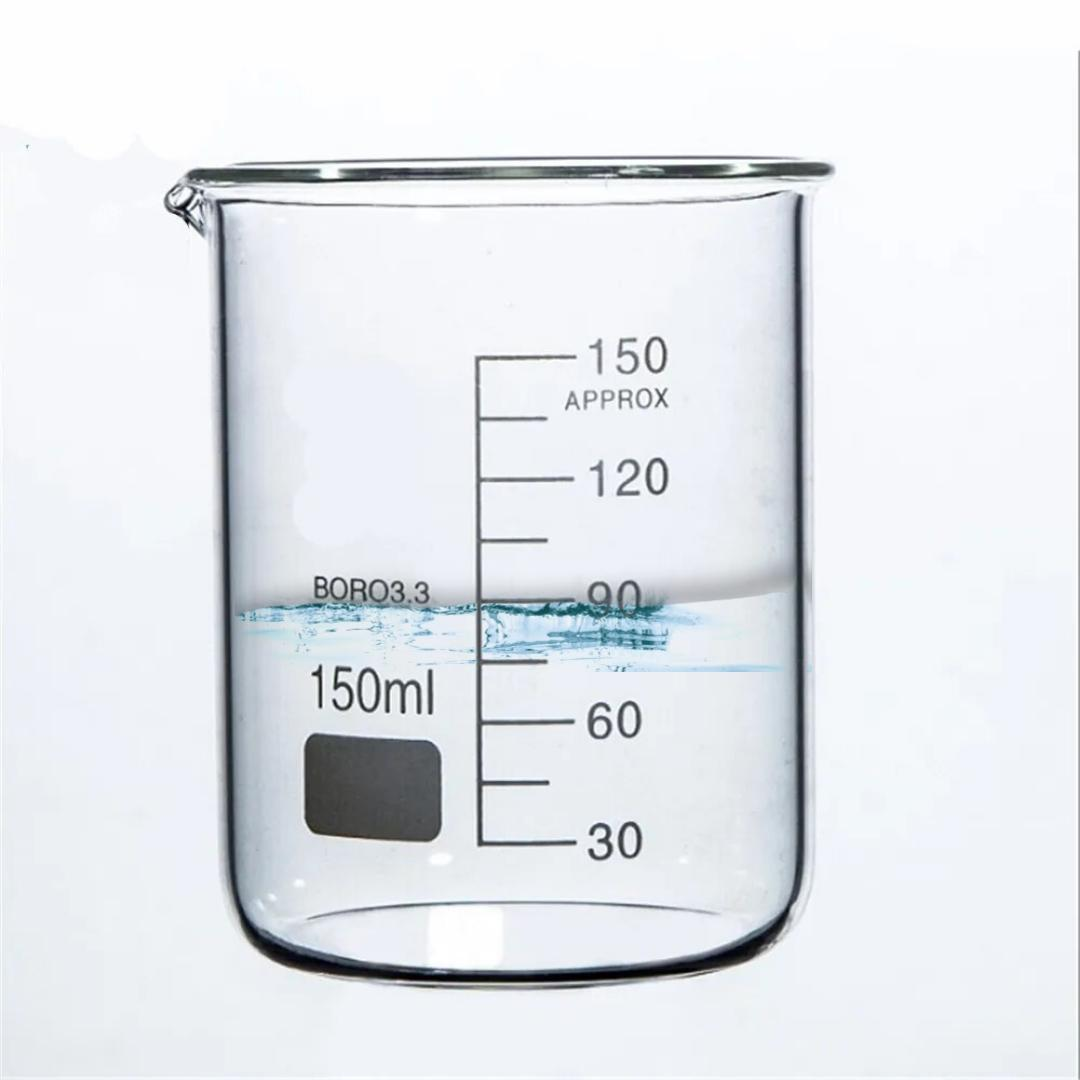Beaker: (162, 140, 848, 980)
